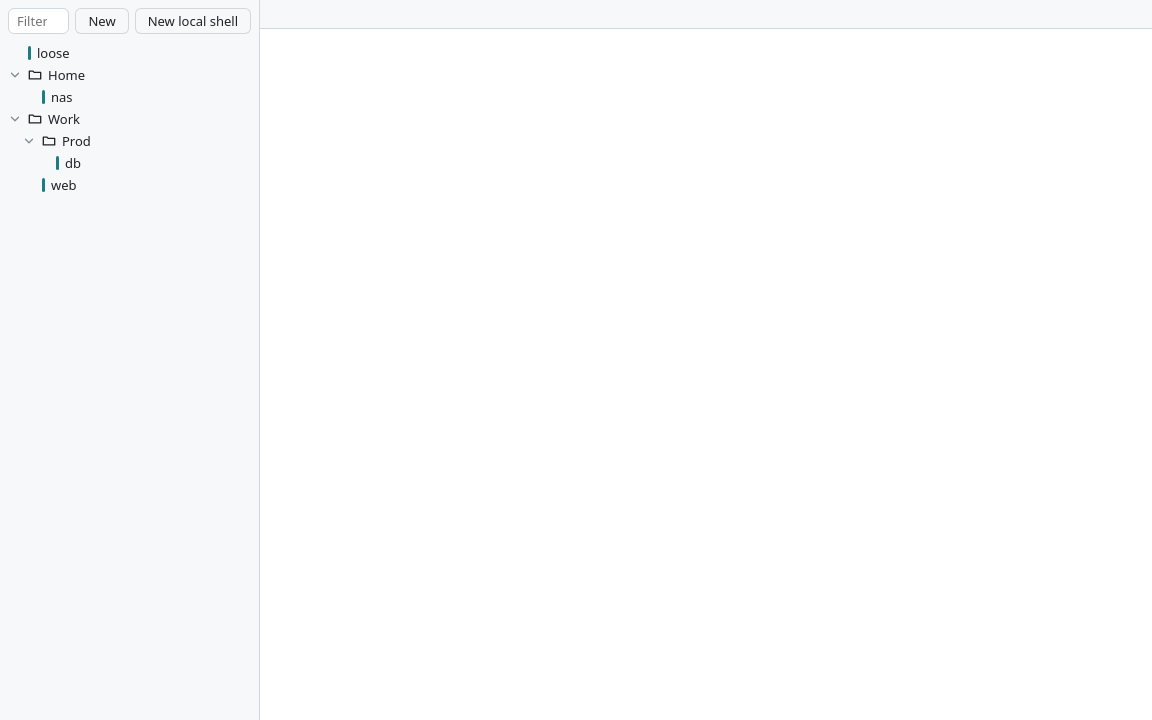
Scenario: Move to… › opens with F7 on a session, marks its folder and moves it and its Tab with the arrow keys and Enter
expect the button "Work" is shown: met, box [0,108,259,130]
Double-click the button "db" at (130, 163), box [0,152,259,174]
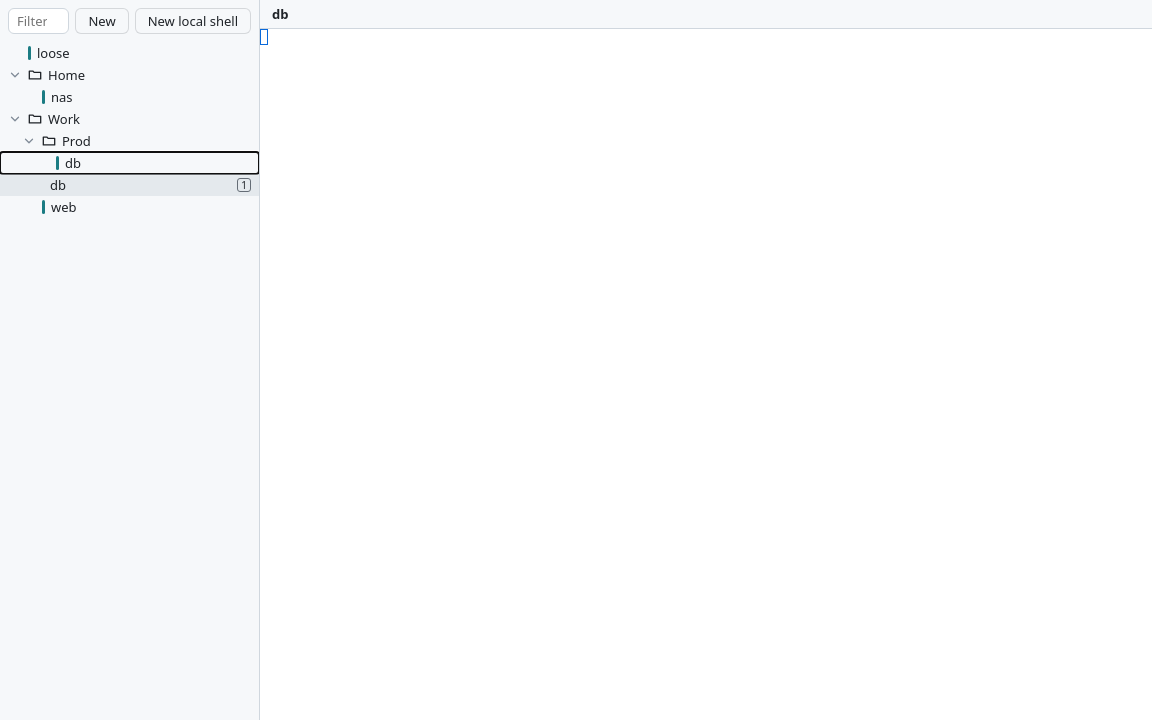
Press F7
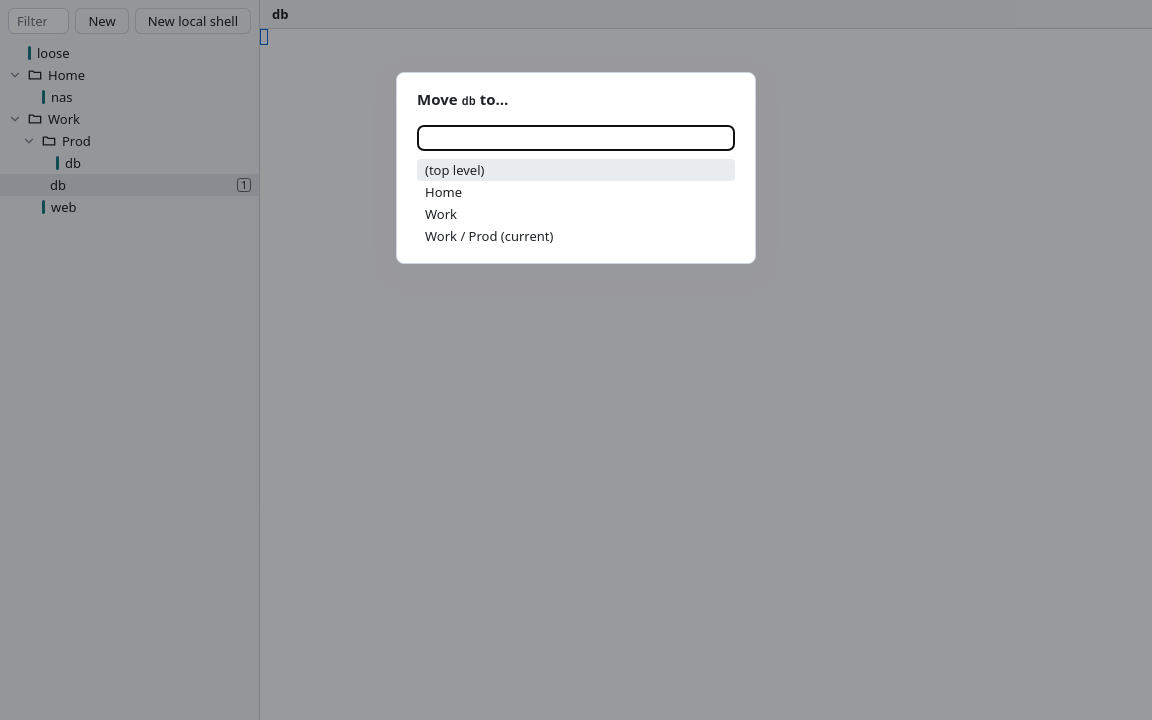
Press Arrowdown Arrowdown Arrowup {ArrowDow
expect the option "Work" is shown: met, box [417,203,735,225]
Press Enter
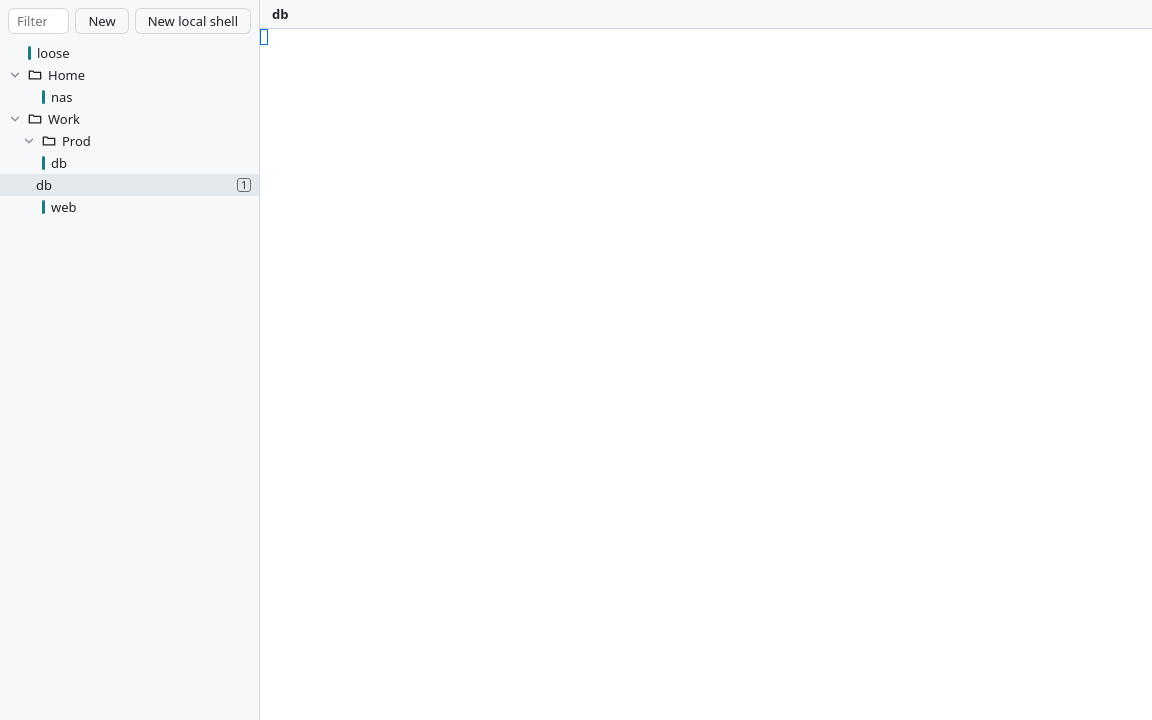
expect the dialog is gone: met
